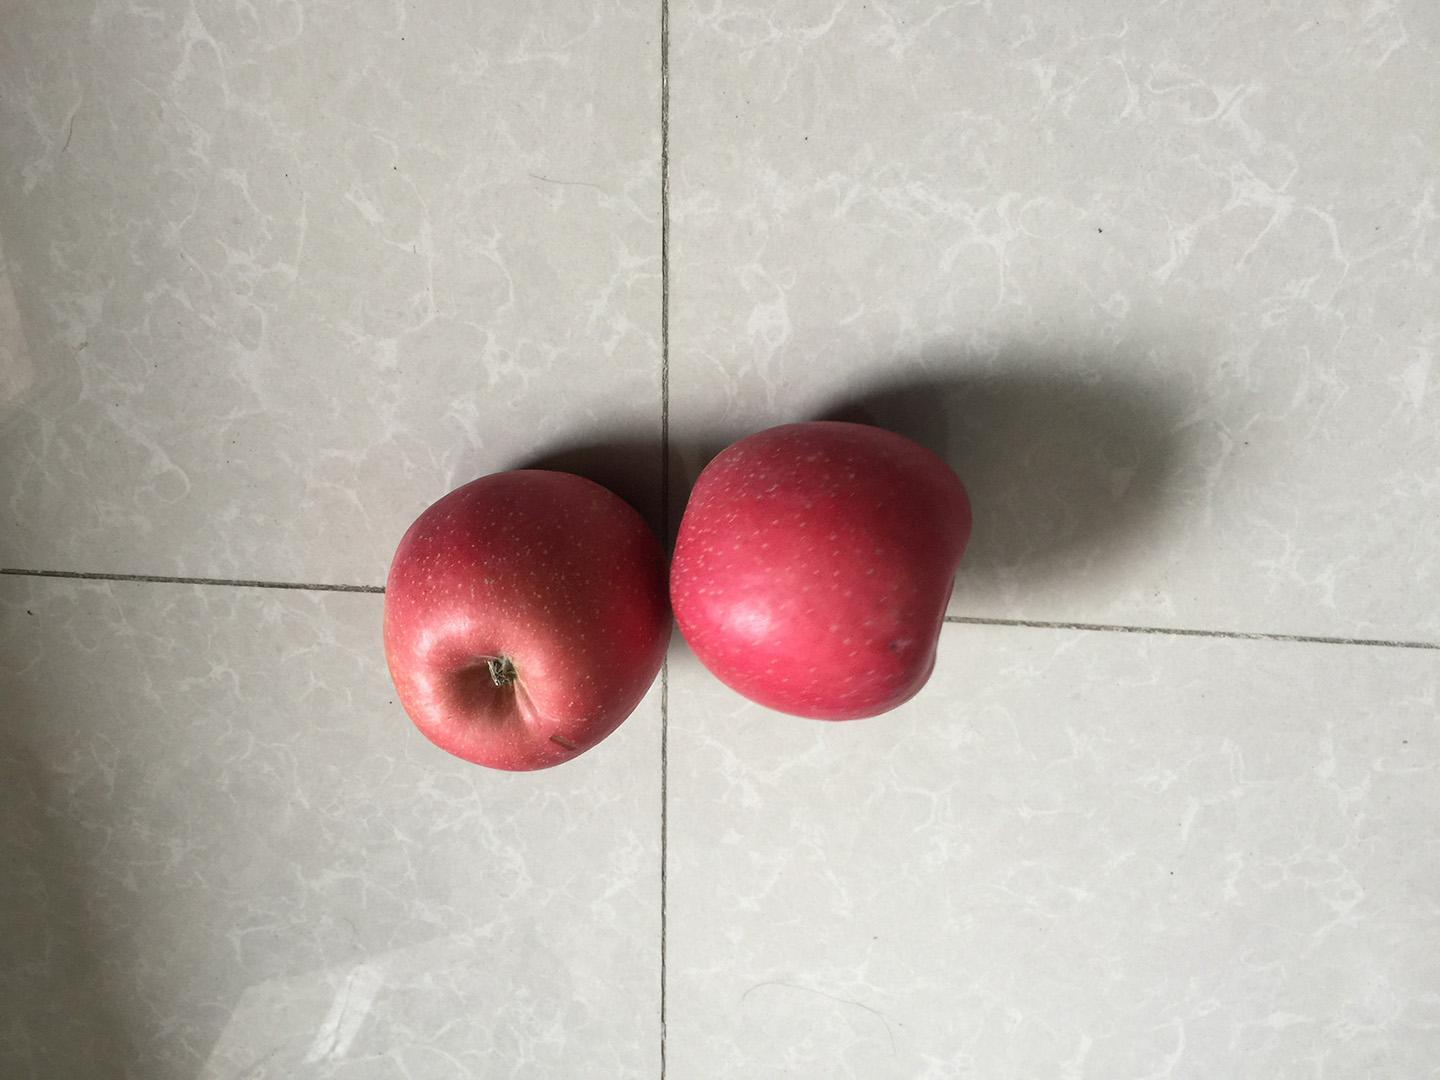apple: (661, 411, 982, 726), (376, 457, 681, 778)
